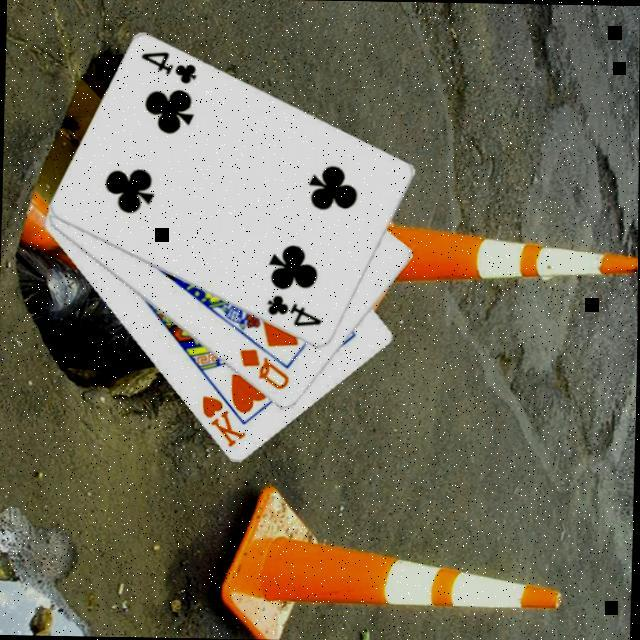4C: (137, 50, 200, 90), (263, 293, 326, 332)
KH: (197, 394, 250, 453)
QD: (236, 346, 294, 394)
